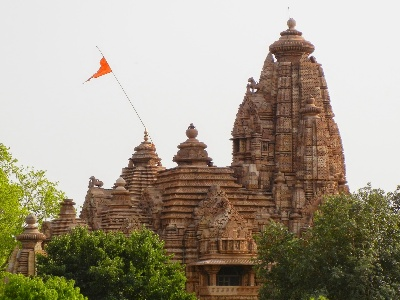amalaka: (262, 33, 327, 62)
gopuram: (249, 58, 354, 210)
mandapa: (180, 245, 266, 295)
